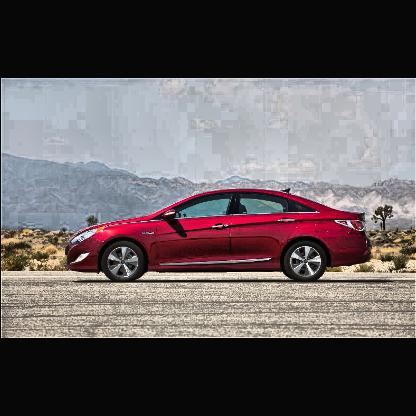Hyundai Sonata Hybrid Sedan 2012: (63, 186, 375, 288)
